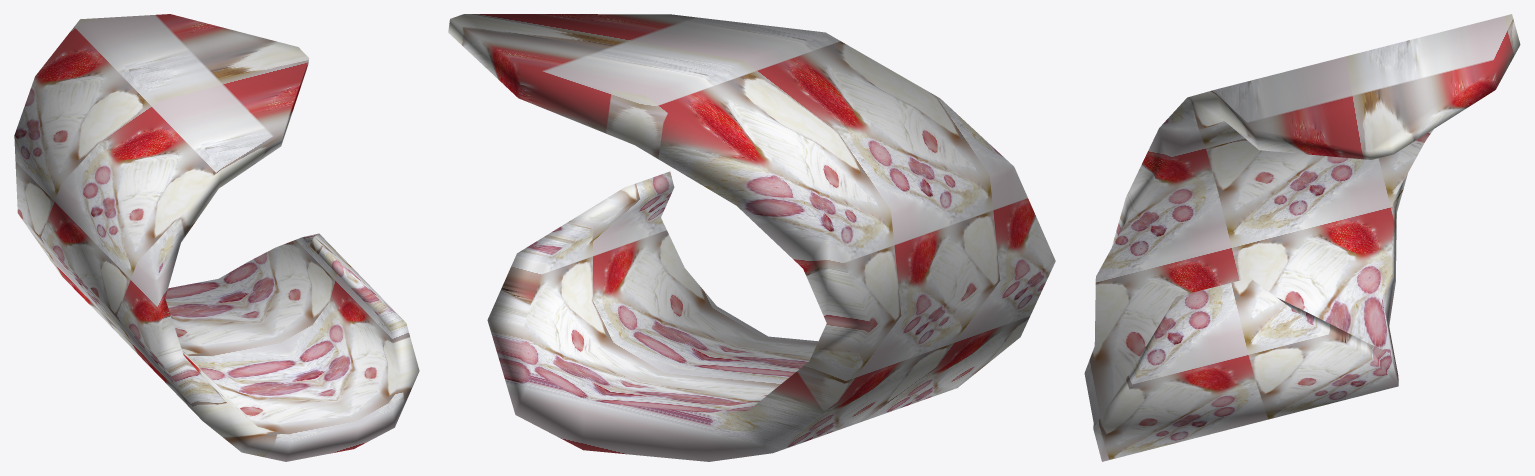
3 renders of one model, left to right at view 1: azimuth 30°, elevation 25°; view 2: azimuth 150°, elevation 25°; view 3: azimuth 270°, elevation 25°, orthographic. The views are drawn at different scales.
Size of the model in its own units: 0.2072 by 0.2401 by 0.2486.
